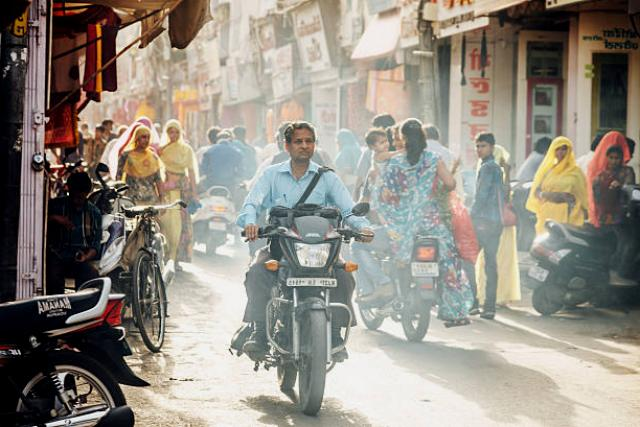licensePlate: (285, 278, 340, 293), (412, 261, 437, 278)
motorcycle: (221, 120, 368, 427), (355, 109, 475, 338)
withoutHelmet: (279, 124, 317, 164), (401, 113, 424, 151)
